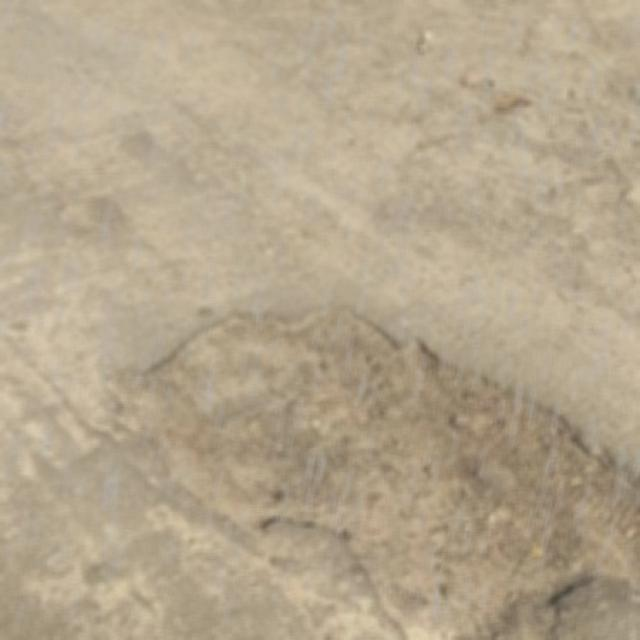road-pothole: (101, 293, 639, 639)
